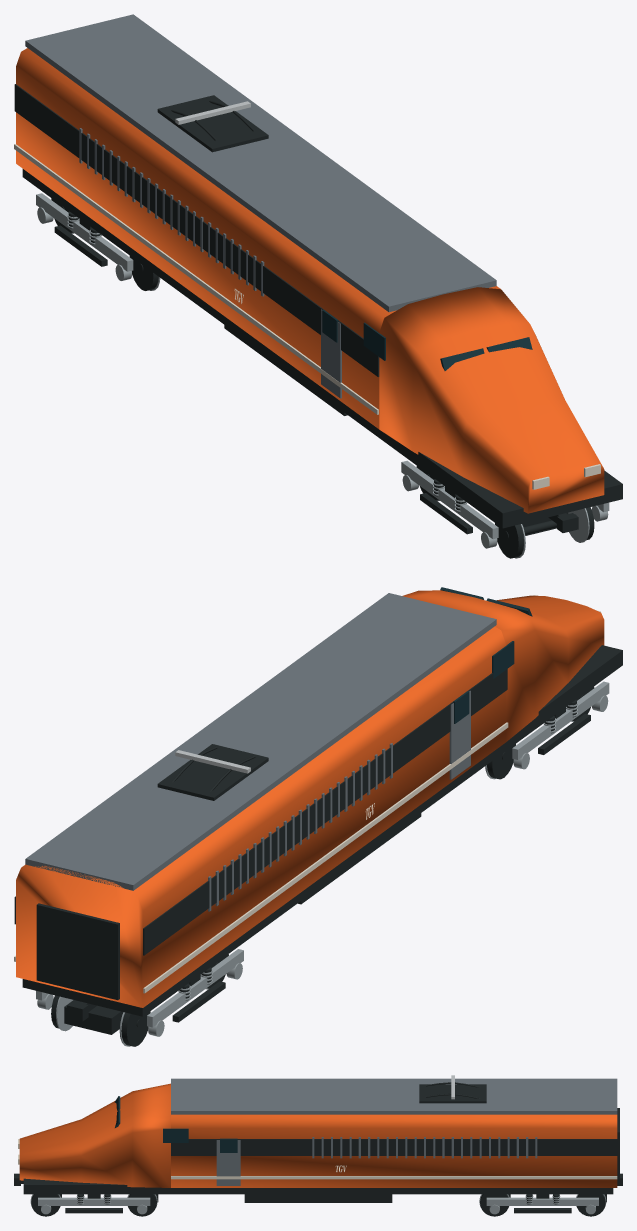
The model's file is tgv-sud-est-power-1435.glb.
3 views of the same model, one above another, from view 1: azimuth 30°, elevation 25°; view 2: azimuth 150°, elevation 25°; view 3: azimuth 270°, elevation 25° (orthographic). The views are drawn at different scales.
Visible parts, largest first — view 1: body, bogie_0, bogie_1, wheel; view 2: body, gangway, bogie_1, bogie_0, wheel; view 3: body, bogie_0, bogie_1, wheel (×4).
Part boxes in pixels (left/top/right/bottom): body: left=14, top=14, right=622, bottom=532; bogie_0: left=401, top=460, right=609, bottom=558; bogie_1: left=36, top=193, right=160, bottom=290; wheel: left=495, top=523, right=523, bottom=558; body: left=14, top=590, right=622, bottom=1021; gangway: left=36, top=903, right=119, bottom=1000; bogie_1: left=36, top=949, right=243, bottom=1046; bogie_0: left=485, top=681, right=609, bottom=779; wheel: left=121, top=1011, right=150, bottom=1046; body: left=14, top=1078, right=622, bottom=1202; bogie_0: left=30, top=1194, right=158, bottom=1214; bogie_1: left=479, top=1194, right=606, bottom=1214; wheel (×4): left=31, top=1194, right=605, bottom=1216.
Size of the model in its own units: 2.94 by 4.13 by 19.
Materials: 9 (2 with a texture image).
